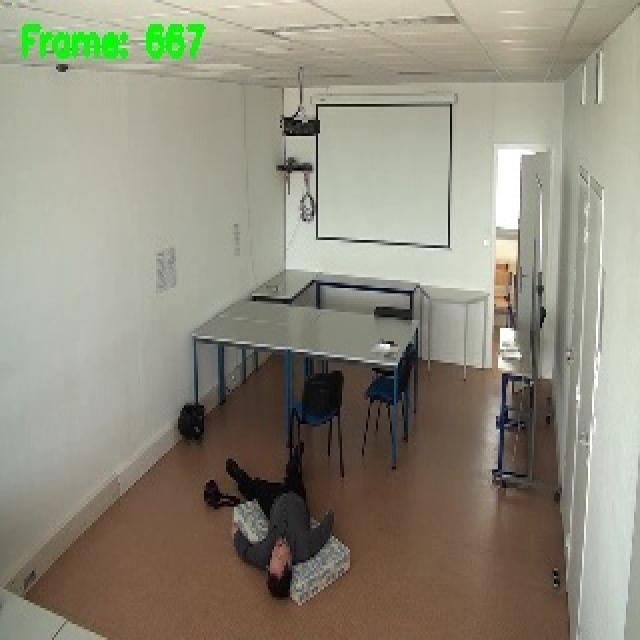fall: (225, 438, 336, 604)
